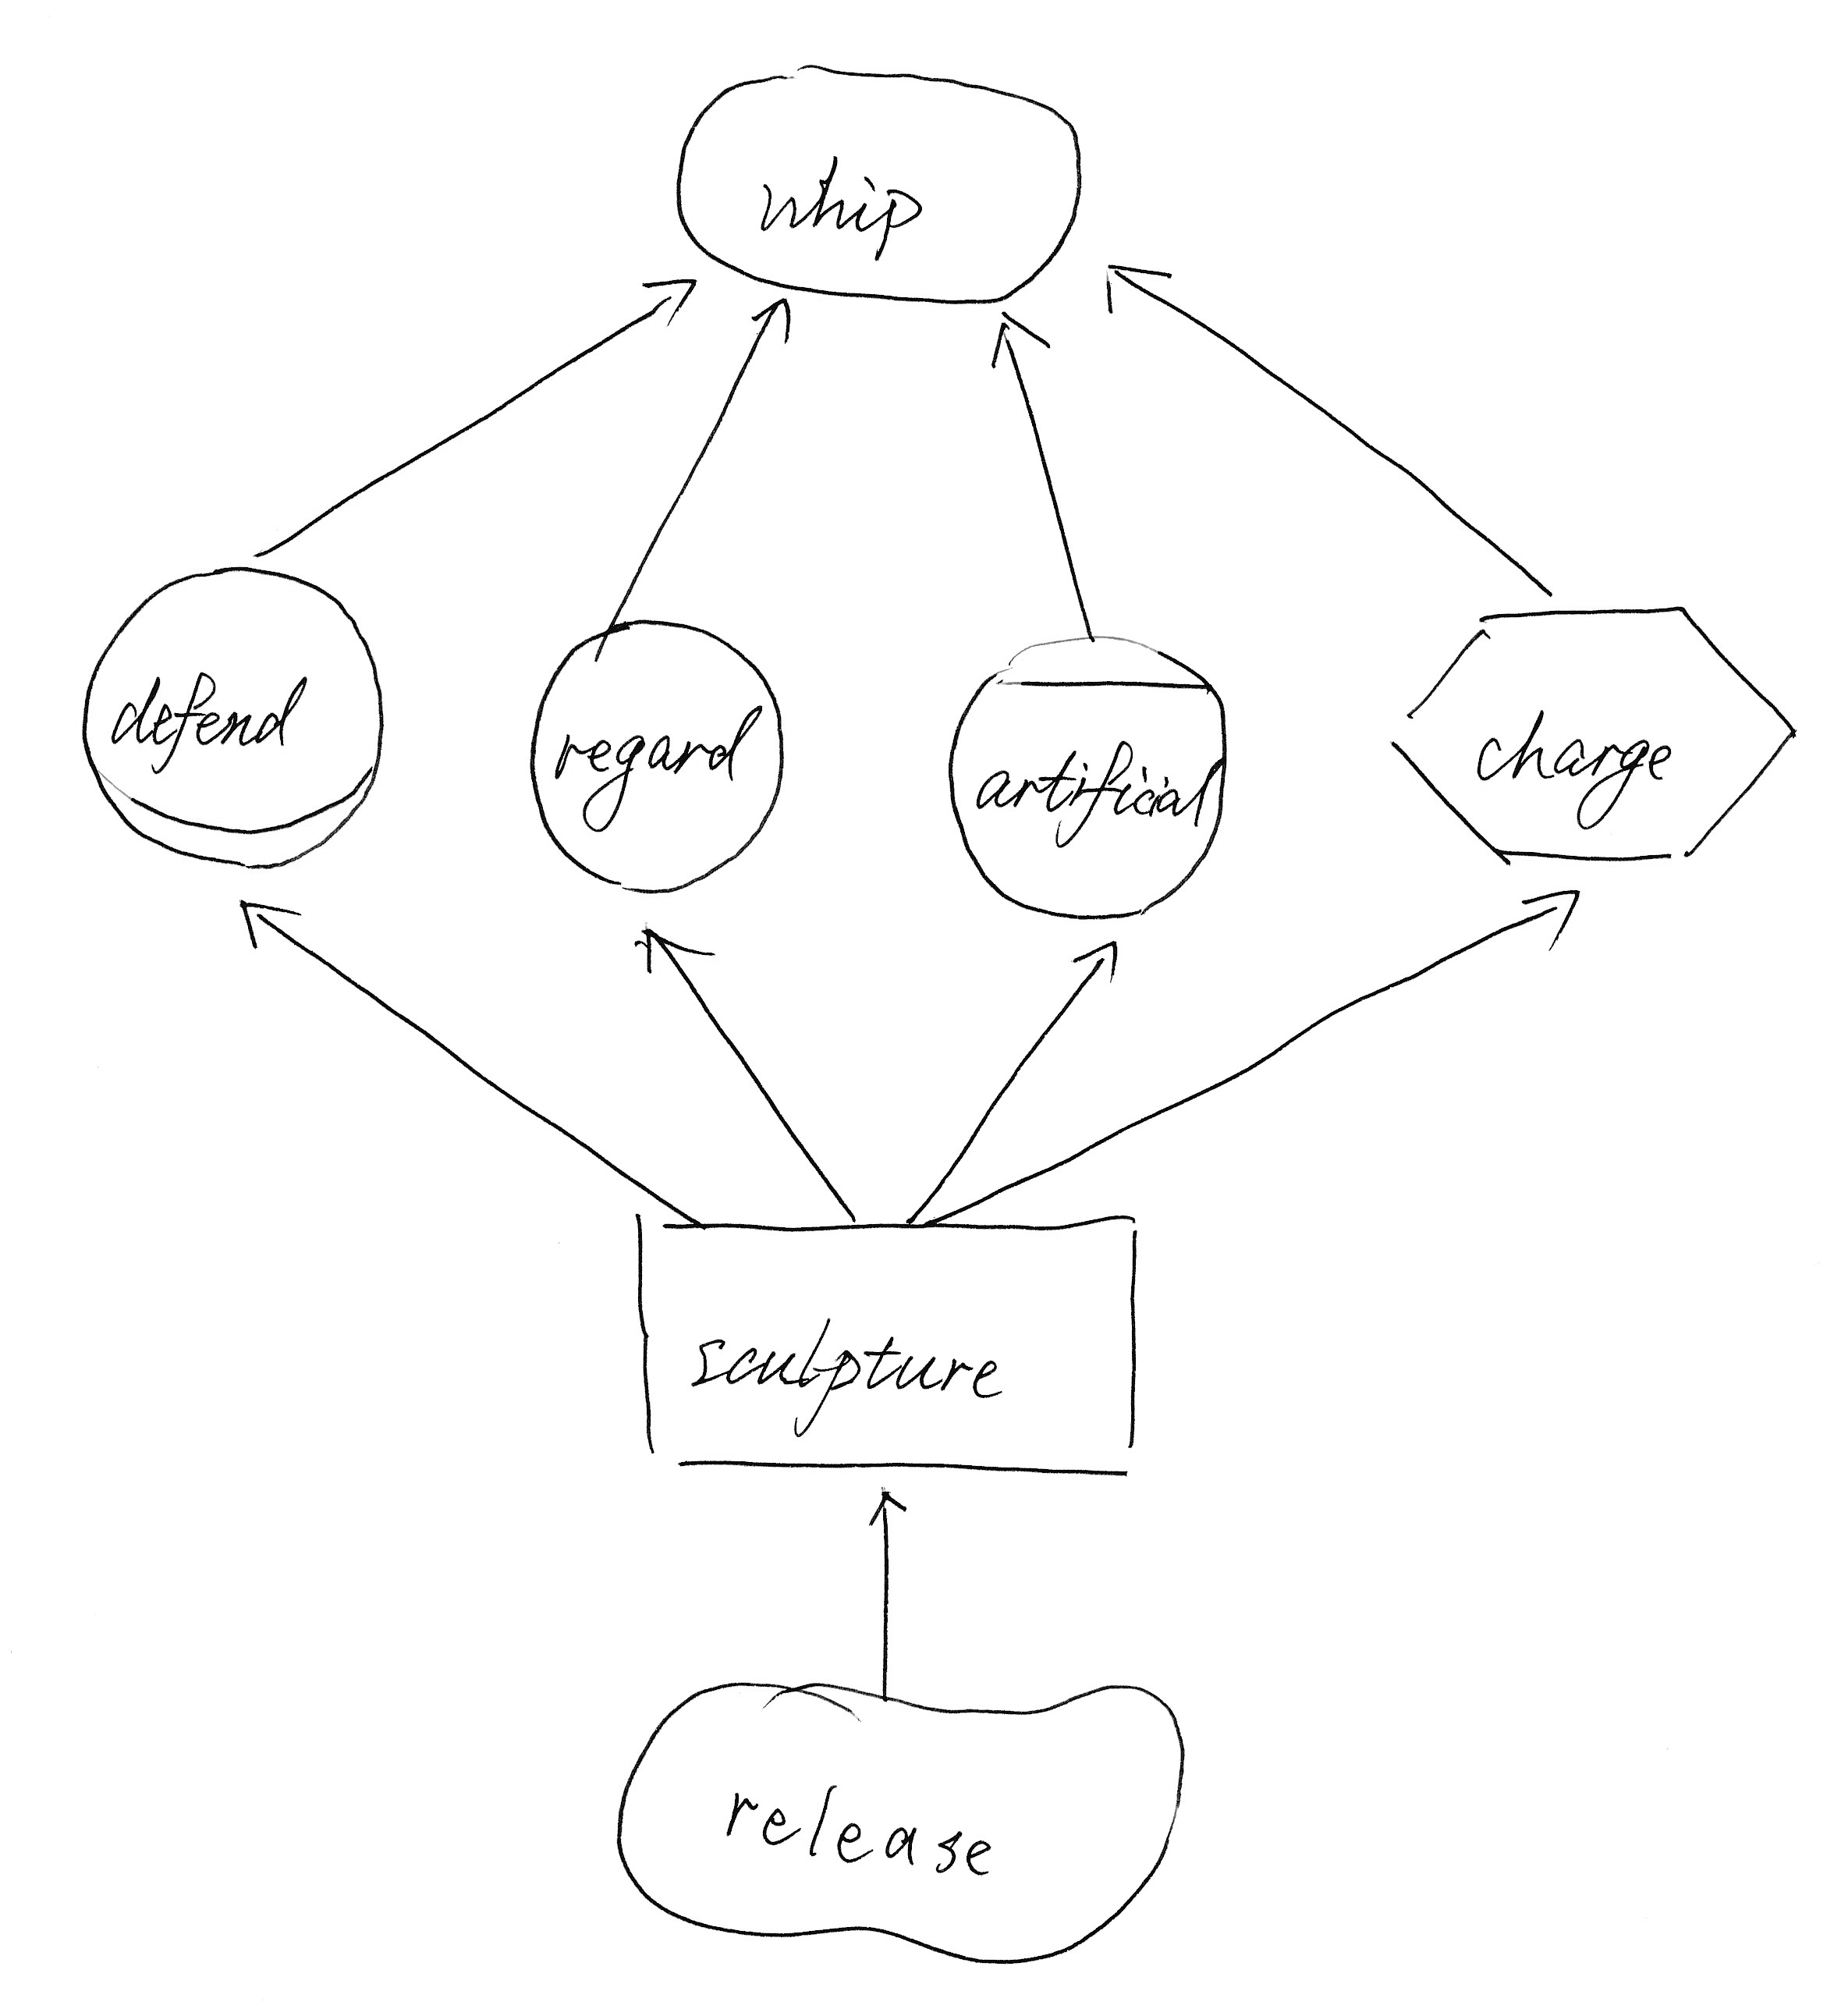actor: (518, 602, 801, 906)
agent: (929, 616, 1240, 943)
arrow: (620, 911, 724, 987), (1502, 878, 1593, 961), (1091, 248, 1184, 325), (223, 887, 307, 966), (970, 304, 1058, 378), (636, 260, 704, 349), (1056, 927, 1140, 999), (733, 288, 815, 356), (861, 1477, 919, 1544)
goal: (659, 37, 1094, 327)
quality: (603, 1647, 1205, 1979)
resource: (606, 1194, 1168, 1491)
role: (65, 546, 402, 882)
task: (1367, 580, 1820, 896)
